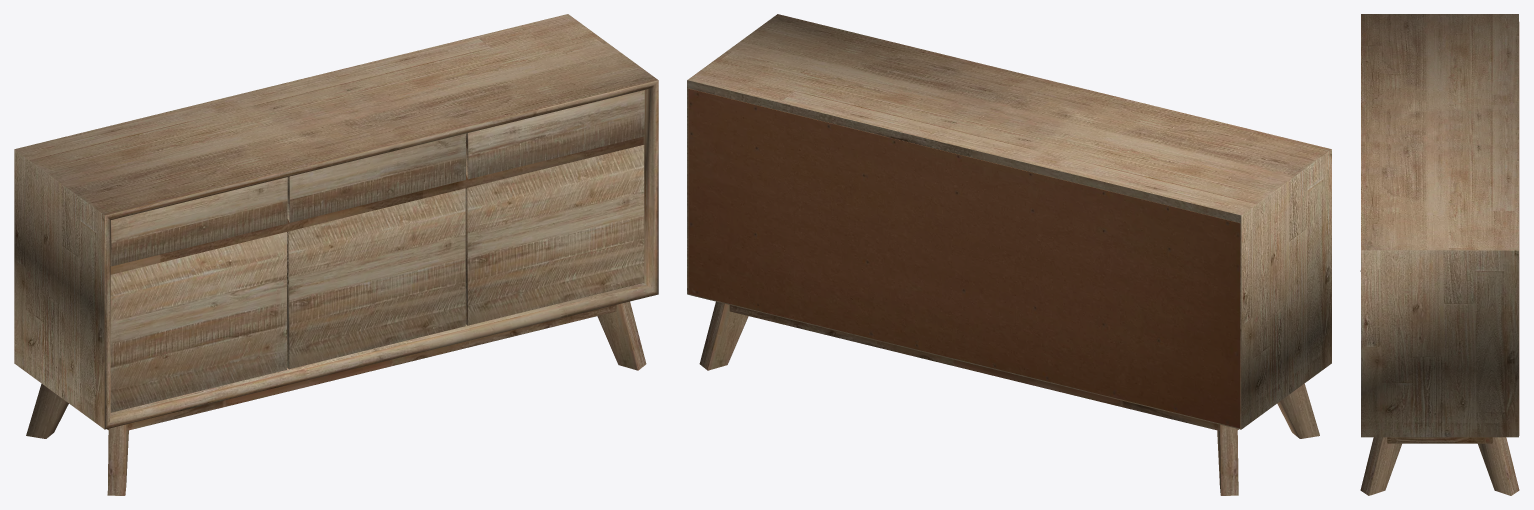
File: abo-B07HSLVMP2.glb
The picture shows the model from 3 angles, left to right: view 1: azimuth 30°, elevation 25°; view 2: azimuth 150°, elevation 25°; view 3: azimuth 270°, elevation 25°; orthographic projection. The views are drawn at different scales.
Parts seen in each view (by area): view 1: RootNode; view 2: RootNode; view 3: RootNode.
Part boxes in pixels (bbox=[...]): RootNode: bbox=[14, 14, 658, 495]; RootNode: bbox=[687, 14, 1331, 495]; RootNode: bbox=[1360, 14, 1519, 495].
Bounding box in the file's own units: 1.6 × 0.7882 × 0.4555.
Materials: 1 (1 with a texture image).
